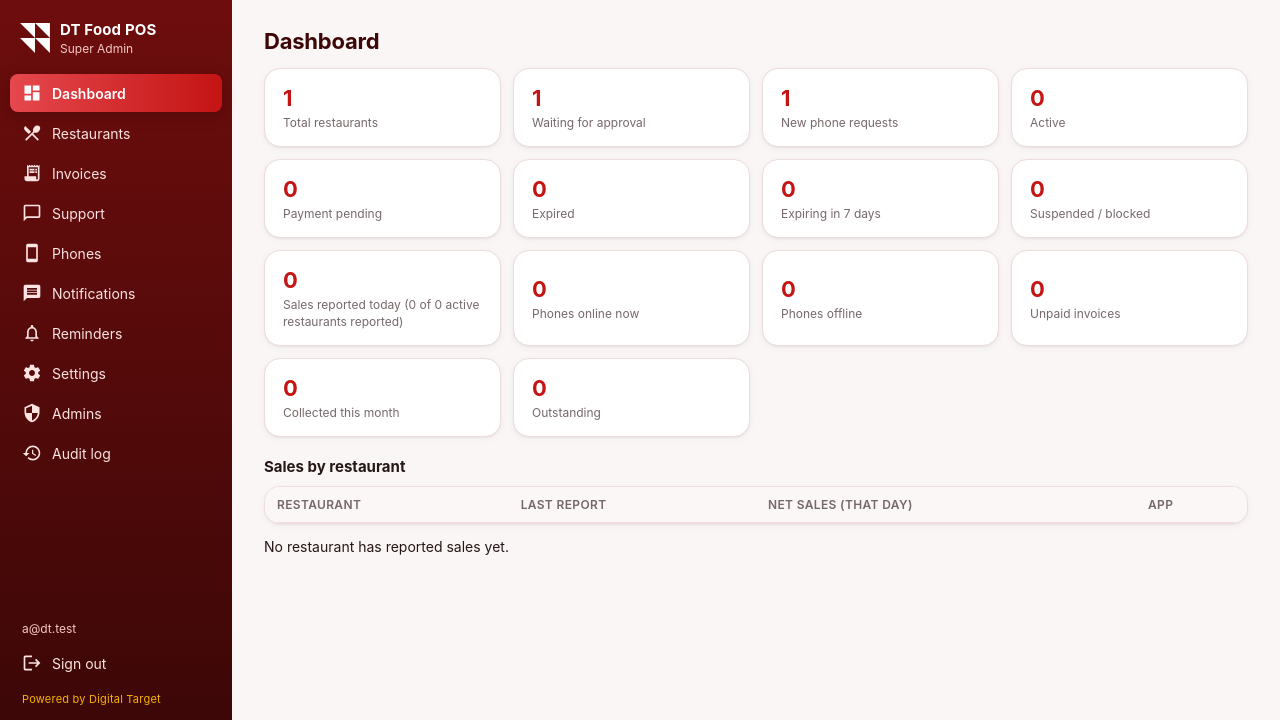
Test: panel › audit log: select entries and delete them, or clean everything older than some days
Click the button "Audit log" at [116, 453], box left=10, top=434, right=222, bottom=472
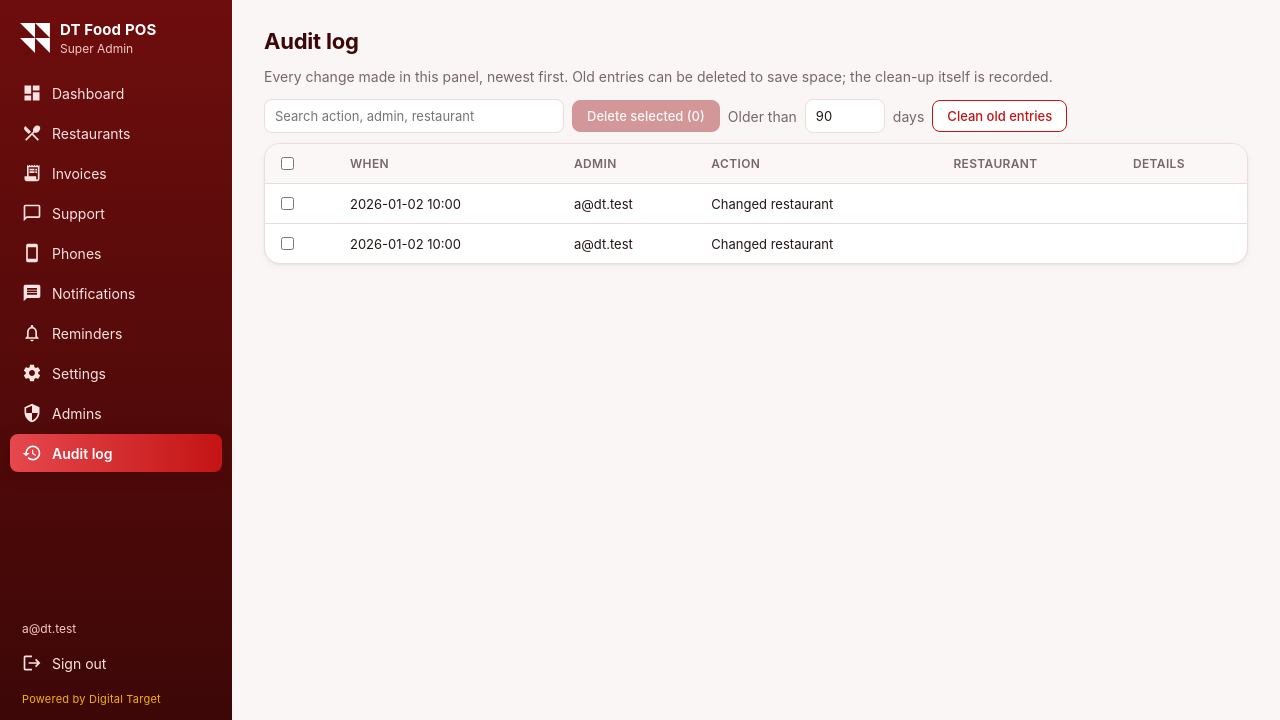
Click the checkbox named "Select account.update e1" at [288, 204], box left=281, top=197, right=294, bottom=210
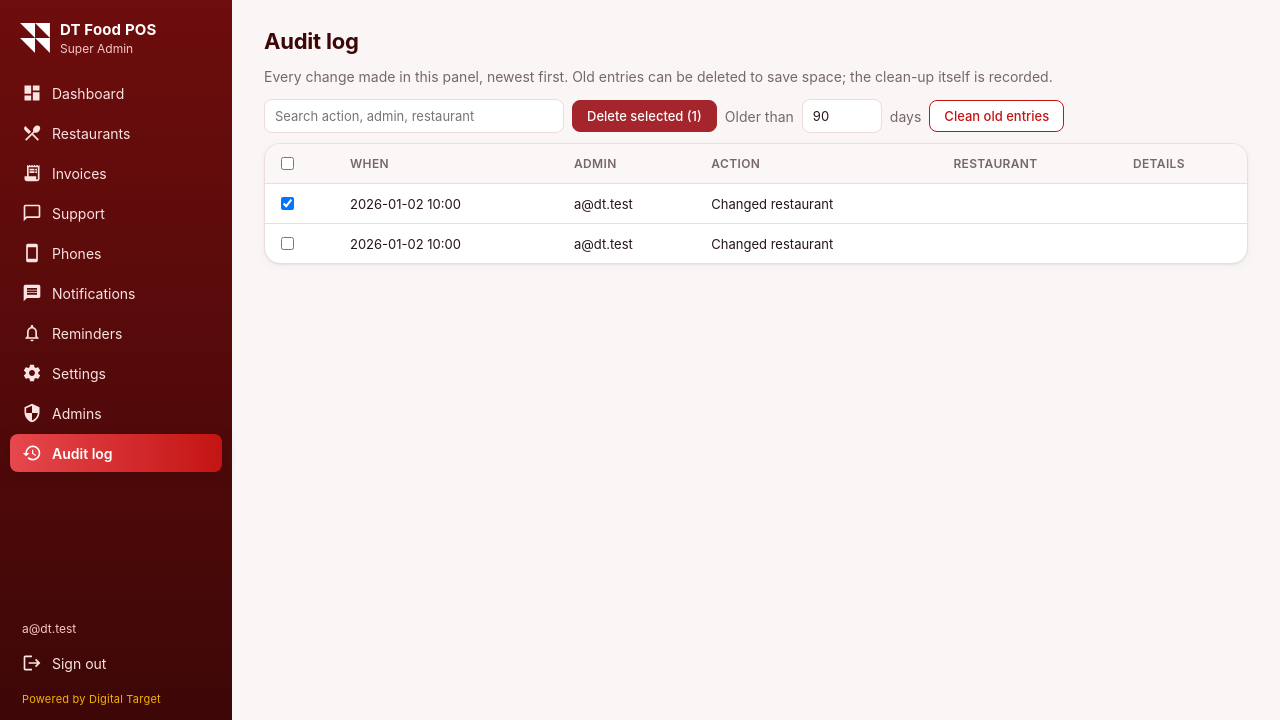
Click the button "Delete selected (1)" at [644, 116], box left=572, top=100, right=717, bottom=132
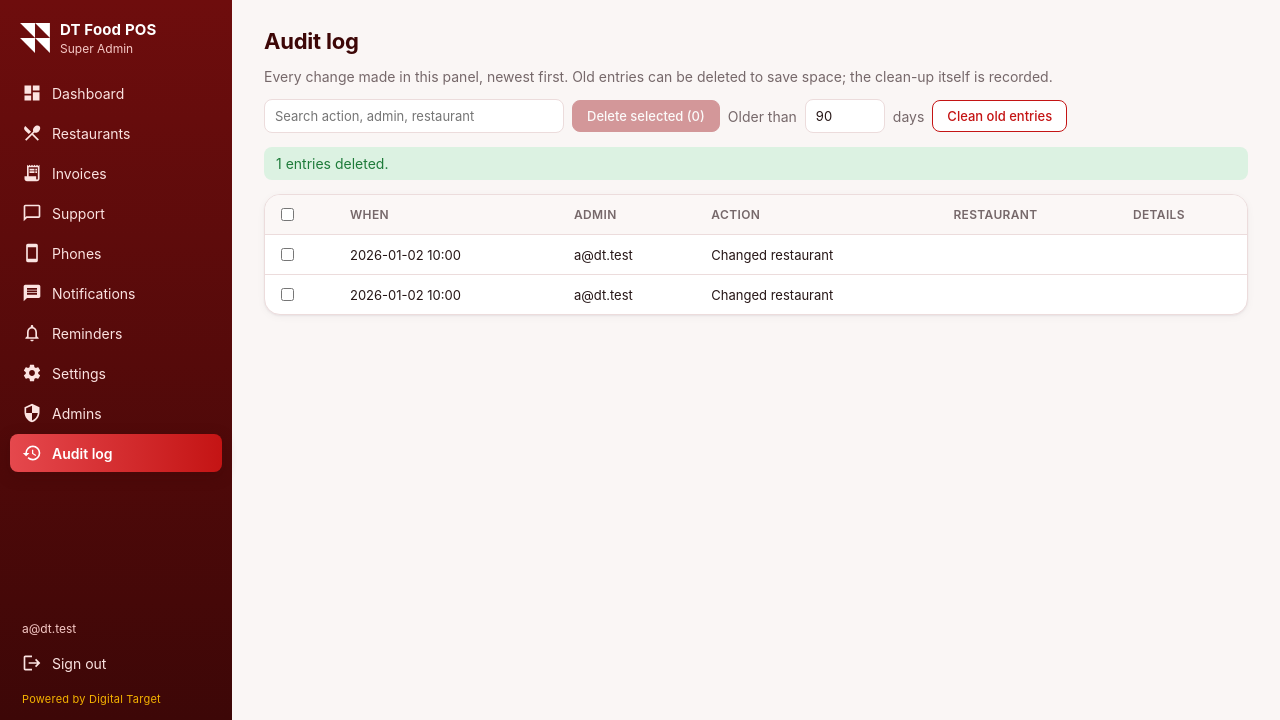
Replace the text in the number field named "Days" with "30" at [845, 116], box left=805, top=99, right=885, bottom=133
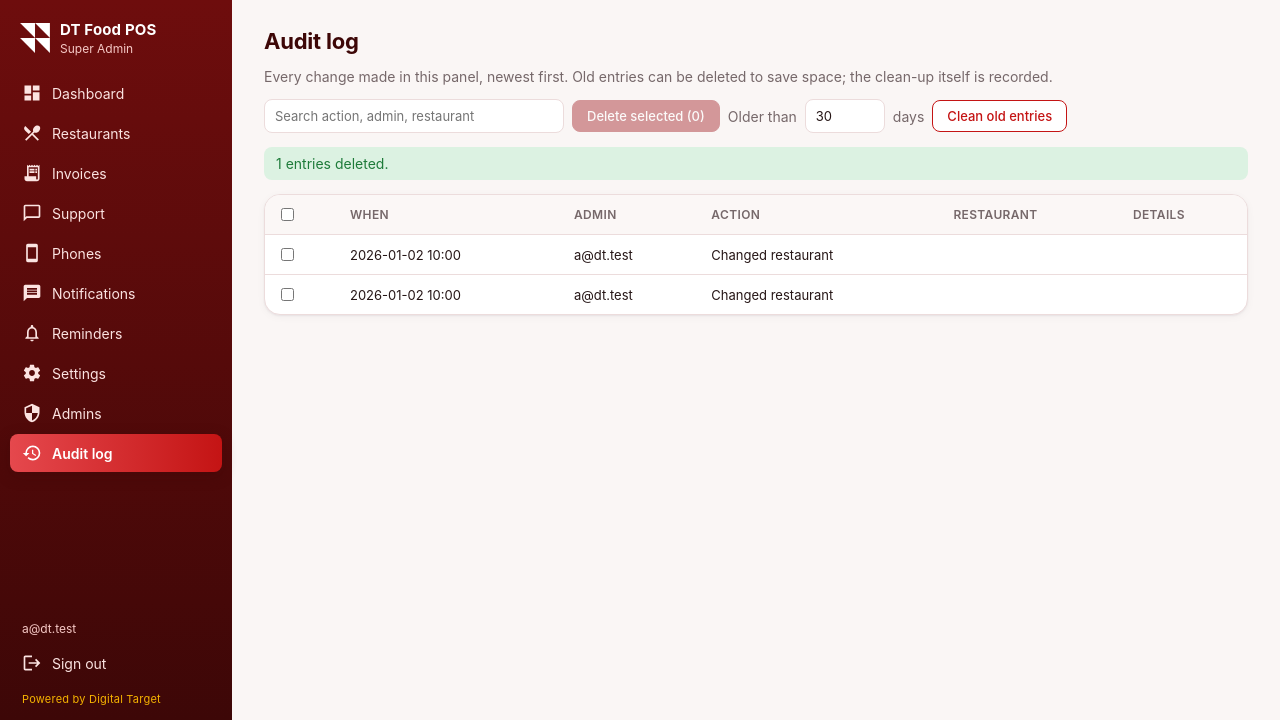
Click the button "Clean old entries" at [1000, 116], box left=932, top=100, right=1067, bottom=132
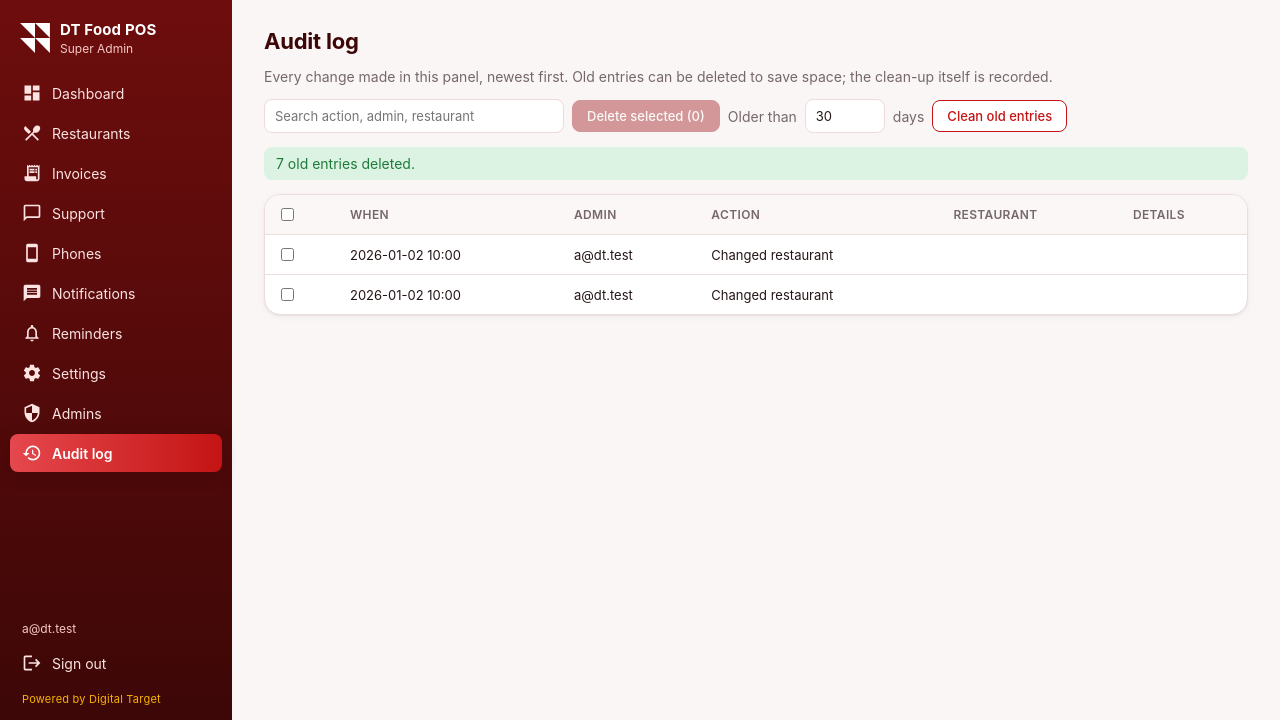
Check: the text "7 old entries deleted." is shown, box left=264, top=147, right=1248, bottom=180
